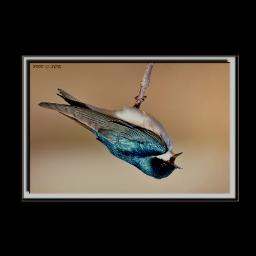Swallow: (36, 87, 185, 181)
